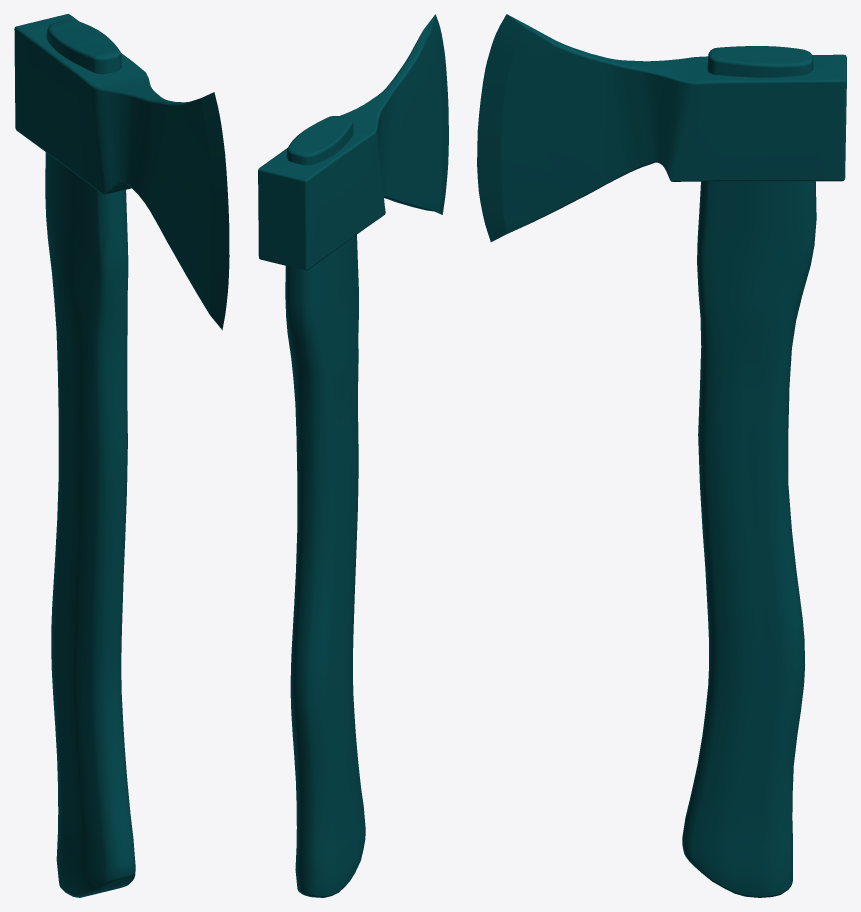
Rendered from AXE_01.fbx.
The picture shows the model from 3 angles, left to right: view 1: azimuth 30°, elevation 25°; view 2: azimuth 150°, elevation 25°; view 3: azimuth 270°, elevation 25°; orthographic projection. The views are drawn at different scales.
Visible parts, largest first — view 1: AXE_01; view 2: AXE_01; view 3: AXE_01.
Boxes of the visible parts, left/top/right/bottom form: AXE_01: left=14, top=14, right=229, bottom=897; AXE_01: left=258, top=14, right=448, bottom=897; AXE_01: left=477, top=14, right=846, bottom=897.
Size of the model in its own units: 3.61 by 55.18 by 21.13.
